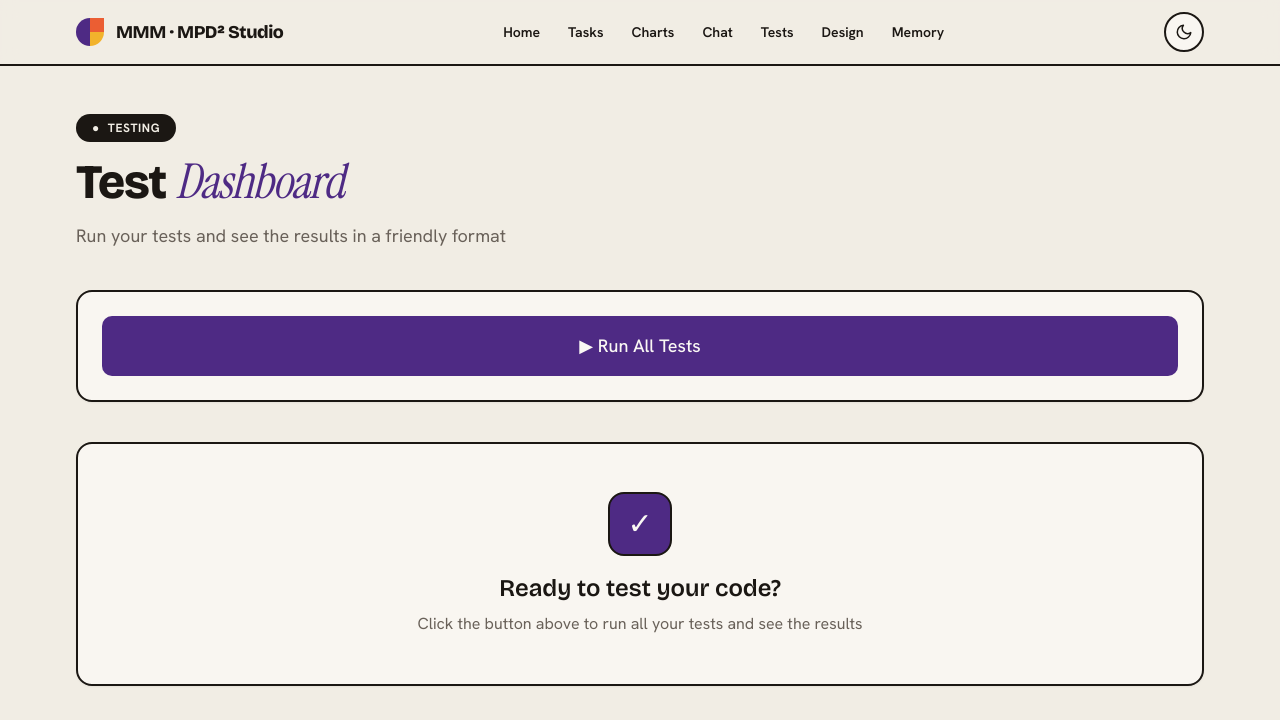
TestDashboard › handles API errors gracefully
The width and height of the screenshot is (1280, 720).
Click the button "▶ Run All Tests" at [640, 346], box [102,316,1178,376]
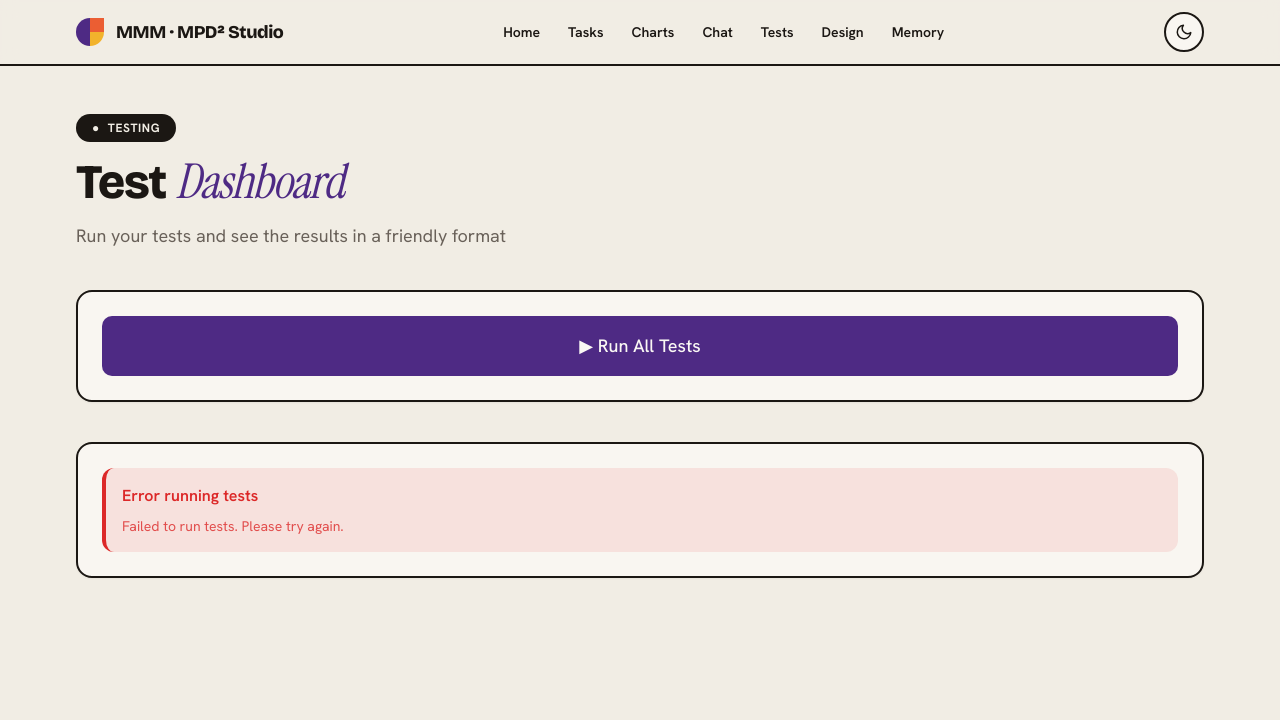
Expected: the text "Failed to run tests. Please try again." is shown, [122,517,344,535]
